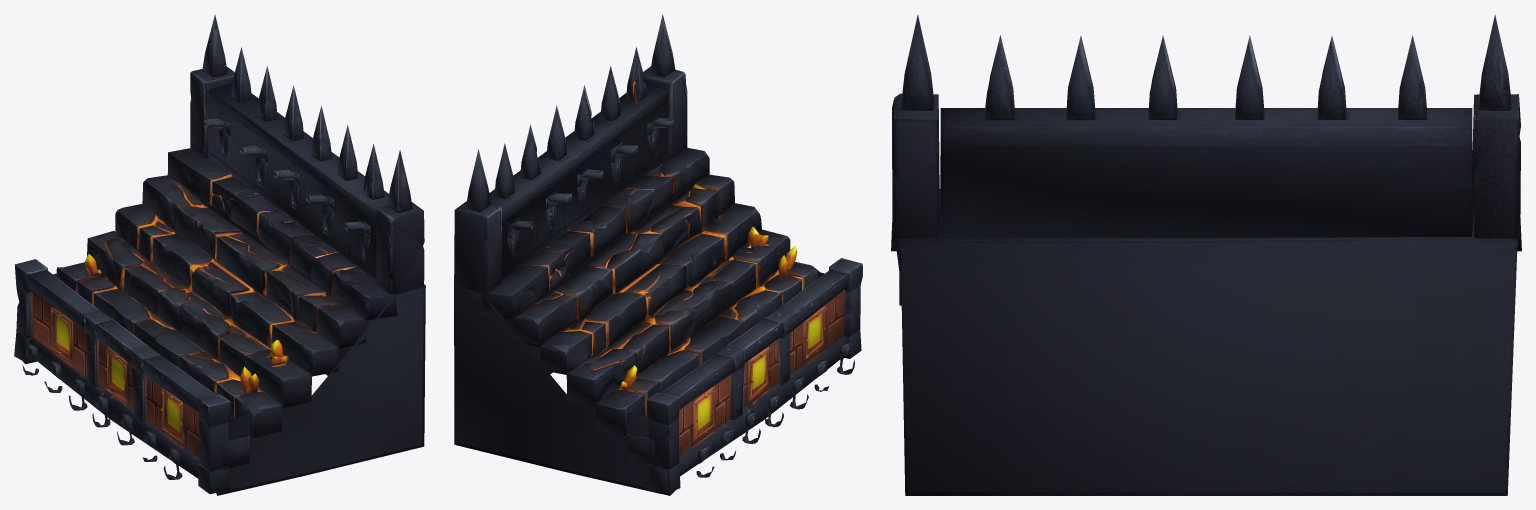
Rendered from volcan_grada_principal.glb.
The picture shows the model from 3 angles, left to right: view 1: azimuth 30°, elevation 25°; view 2: azimuth 150°, elevation 25°; view 3: azimuth 270°, elevation 25°; orthographic projection. The views are drawn at different scales.
Parts seen in each view (by area): view 1: tripo_node_eb9c5900-8ba8-4ad6-8ed2-dc4f24862c2d; view 2: tripo_node_eb9c5900-8ba8-4ad6-8ed2-dc4f24862c2d; view 3: tripo_node_eb9c5900-8ba8-4ad6-8ed2-dc4f24862c2d.
Part boxes in pixels (left/top/right/bottom): tripo_node_eb9c5900-8ba8-4ad6-8ed2-dc4f24862c2d: left=14, top=14, right=425, bottom=495; tripo_node_eb9c5900-8ba8-4ad6-8ed2-dc4f24862c2d: left=454, top=14, right=862, bottom=495; tripo_node_eb9c5900-8ba8-4ad6-8ed2-dc4f24862c2d: left=891, top=14, right=1521, bottom=495.
Size of the model in its own units: 0.668 by 0.814 by 0.9976.
Materials: 1 (1 with a texture image).
